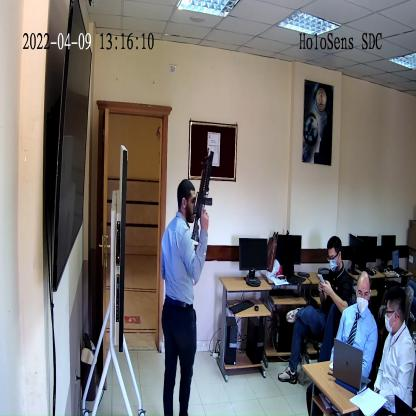handgun: (191, 155, 215, 245)
